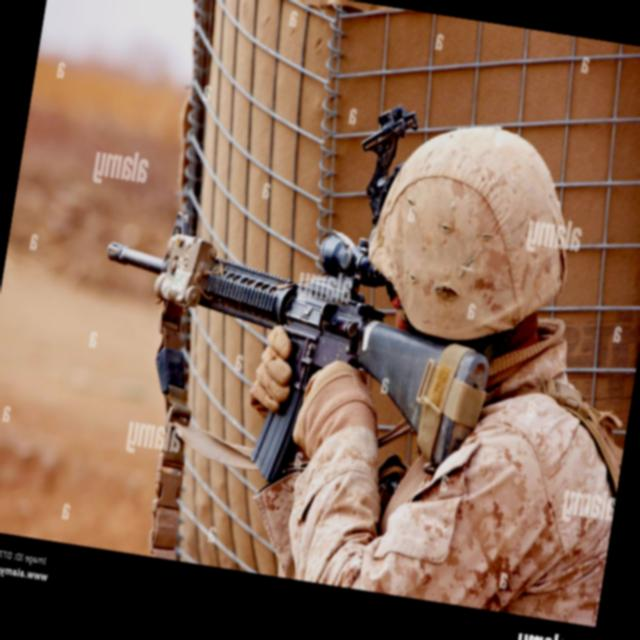m16: (51, 215, 485, 438)
